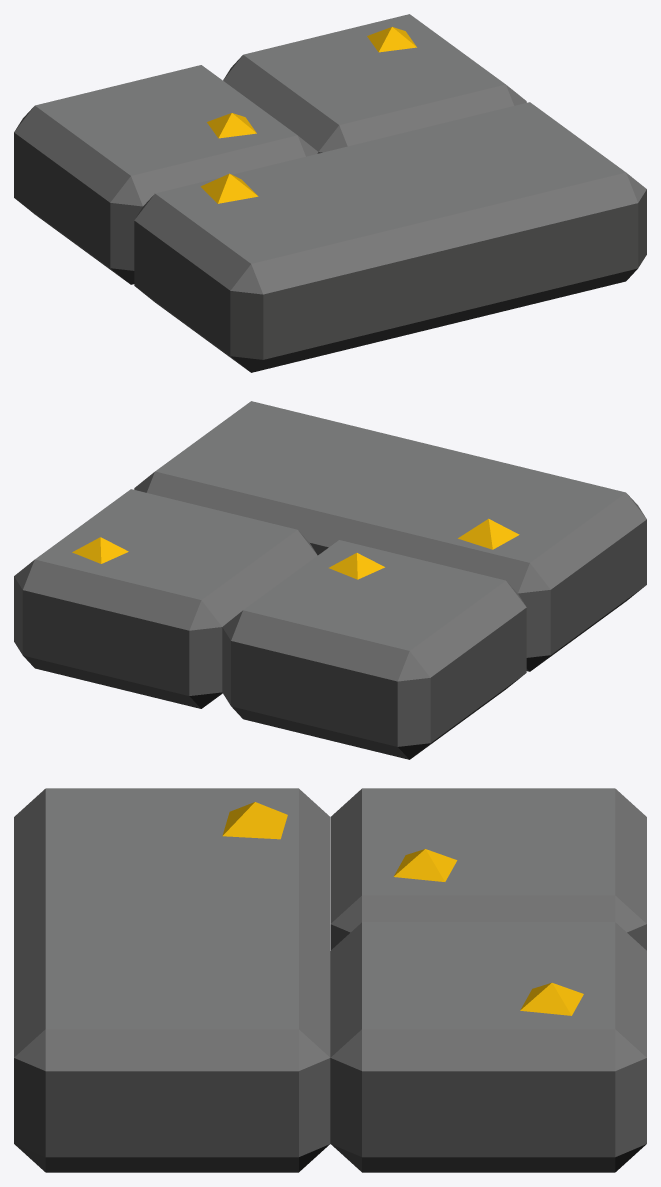
The model's file is m_kub_ore_flatMixed.FBX.
The picture shows the model from 3 angles, top to bottom: view 1: azimuth 30°, elevation 25°; view 2: azimuth 150°, elevation 25°; view 3: azimuth 270°, elevation 25°; orthographic projection. The views are drawn at different scales.
Visible parts, largest first — view 1: m_kub_ore_flatMixed; view 2: m_kub_ore_flatMixed; view 3: m_kub_ore_flatMixed.
Part boxes in pixels (box(x1,y1,x2,y2)): m_kub_ore_flatMixed: box(14, 14, 646, 372); m_kub_ore_flatMixed: box(14, 401, 646, 759); m_kub_ore_flatMixed: box(14, 788, 646, 1172).
Size of the model in its own units: 2 by 0.5826 by 2.
